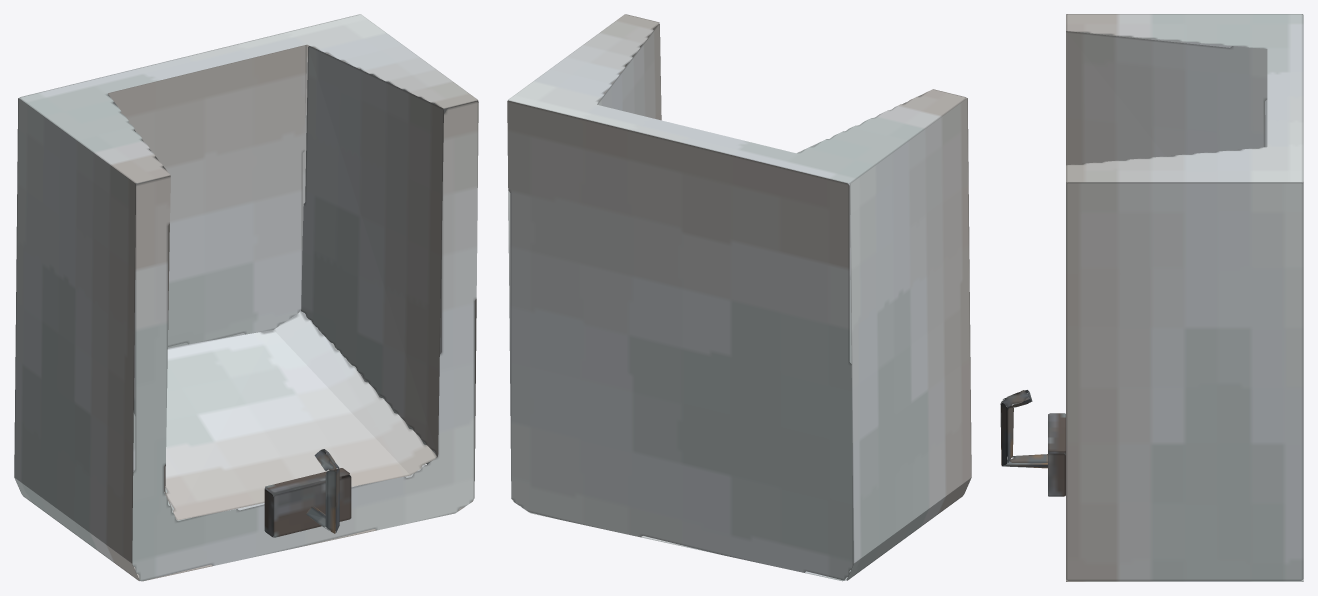
The model's file is pz_house_bath_head.obj.
3 renders of one model, left to right at view 1: azimuth 30°, elevation 25°; view 2: azimuth 150°, elevation 25°; view 3: azimuth 270°, elevation 25°, orthographic.
Visible parts, largest first — view 1: pz_house_bath_head_|_1_parte_1, pz_house_bath_head_|_2_parte_2, pz_house_bath_head_|_3_parte_3; view 2: pz_house_bath_head_|_1_parte_1; view 3: pz_house_bath_head_|_1_parte_1, pz_house_bath_head_|_3_parte_3, pz_house_bath_head_|_2_parte_2.
Boxes of the visible parts, bbox=[...] form: pz_house_bath_head_|_1_parte_1: bbox=[14, 14, 478, 581]; pz_house_bath_head_|_2_parte_2: bbox=[264, 468, 351, 537]; pz_house_bath_head_|_3_parte_3: bbox=[306, 449, 339, 533]; pz_house_bath_head_|_1_parte_1: bbox=[507, 14, 971, 581]; pz_house_bath_head_|_1_parte_1: bbox=[1066, 14, 1303, 581]; pz_house_bath_head_|_3_parte_3: bbox=[1000, 390, 1048, 468]; pz_house_bath_head_|_2_parte_2: bbox=[1048, 413, 1065, 496].
Bounding box in the file's own units: 0.89 × 1 × 0.6699.
1 material, 1 textured.
